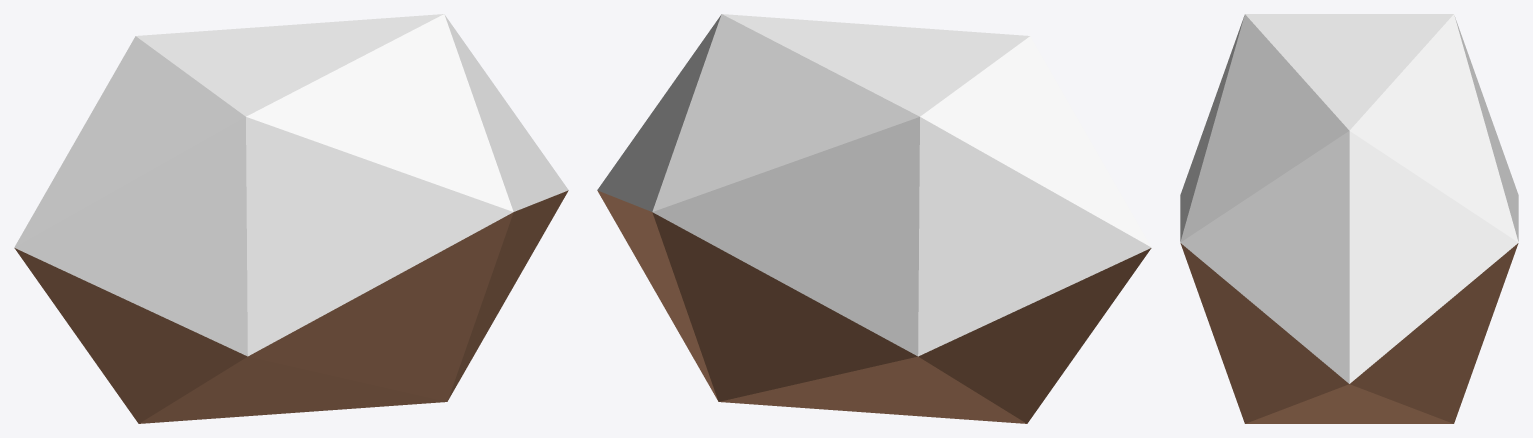
Rendered from Coconut_Snow_02.fbx.
3 renders of one model, left to right at view 1: azimuth 30°, elevation 25°; view 2: azimuth 150°, elevation 25°; view 3: azimuth 270°, elevation 25°, orthographic. The views are drawn at different scales.
Parts seen in each view (by area): view 1: Coconut_Snow_02; view 2: Coconut_Snow_02; view 3: Coconut_Snow_02.
Part boxes in pixels (x1,y1,x2,y2): Coconut_Snow_02: (14,14,568,423); Coconut_Snow_02: (597,14,1151,423); Coconut_Snow_02: (1180,14,1518,423).
Size of the model in its own units: 50.35 by 29.09 by 28.07.
